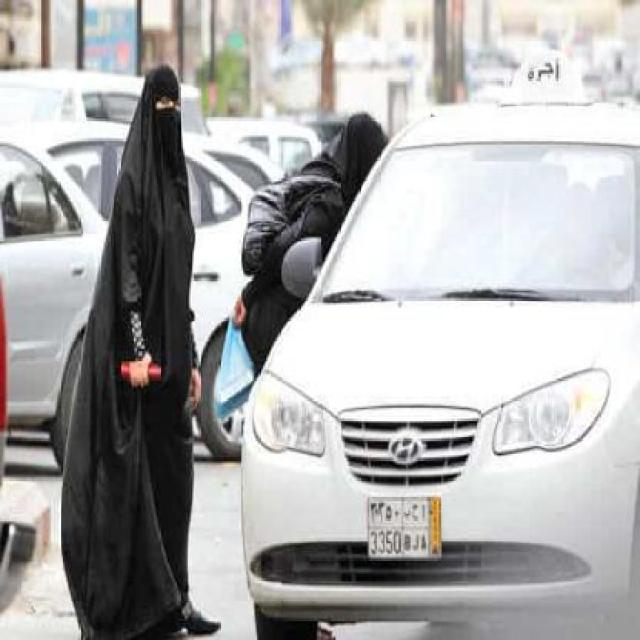license_plate: (366, 494, 443, 561)
